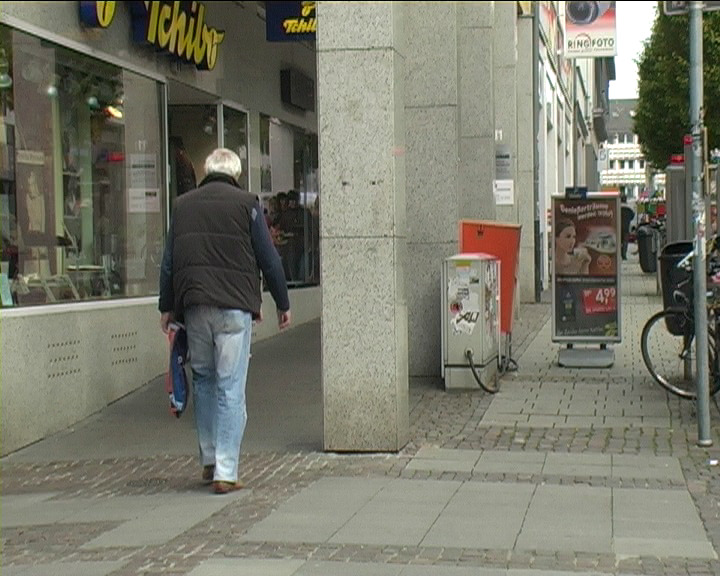undeflect: (175, 149, 261, 228)
